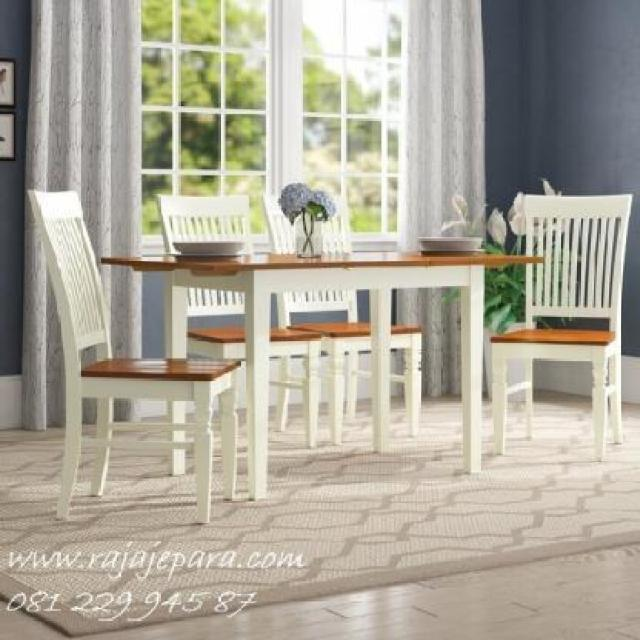tables: (97, 249, 546, 500)
